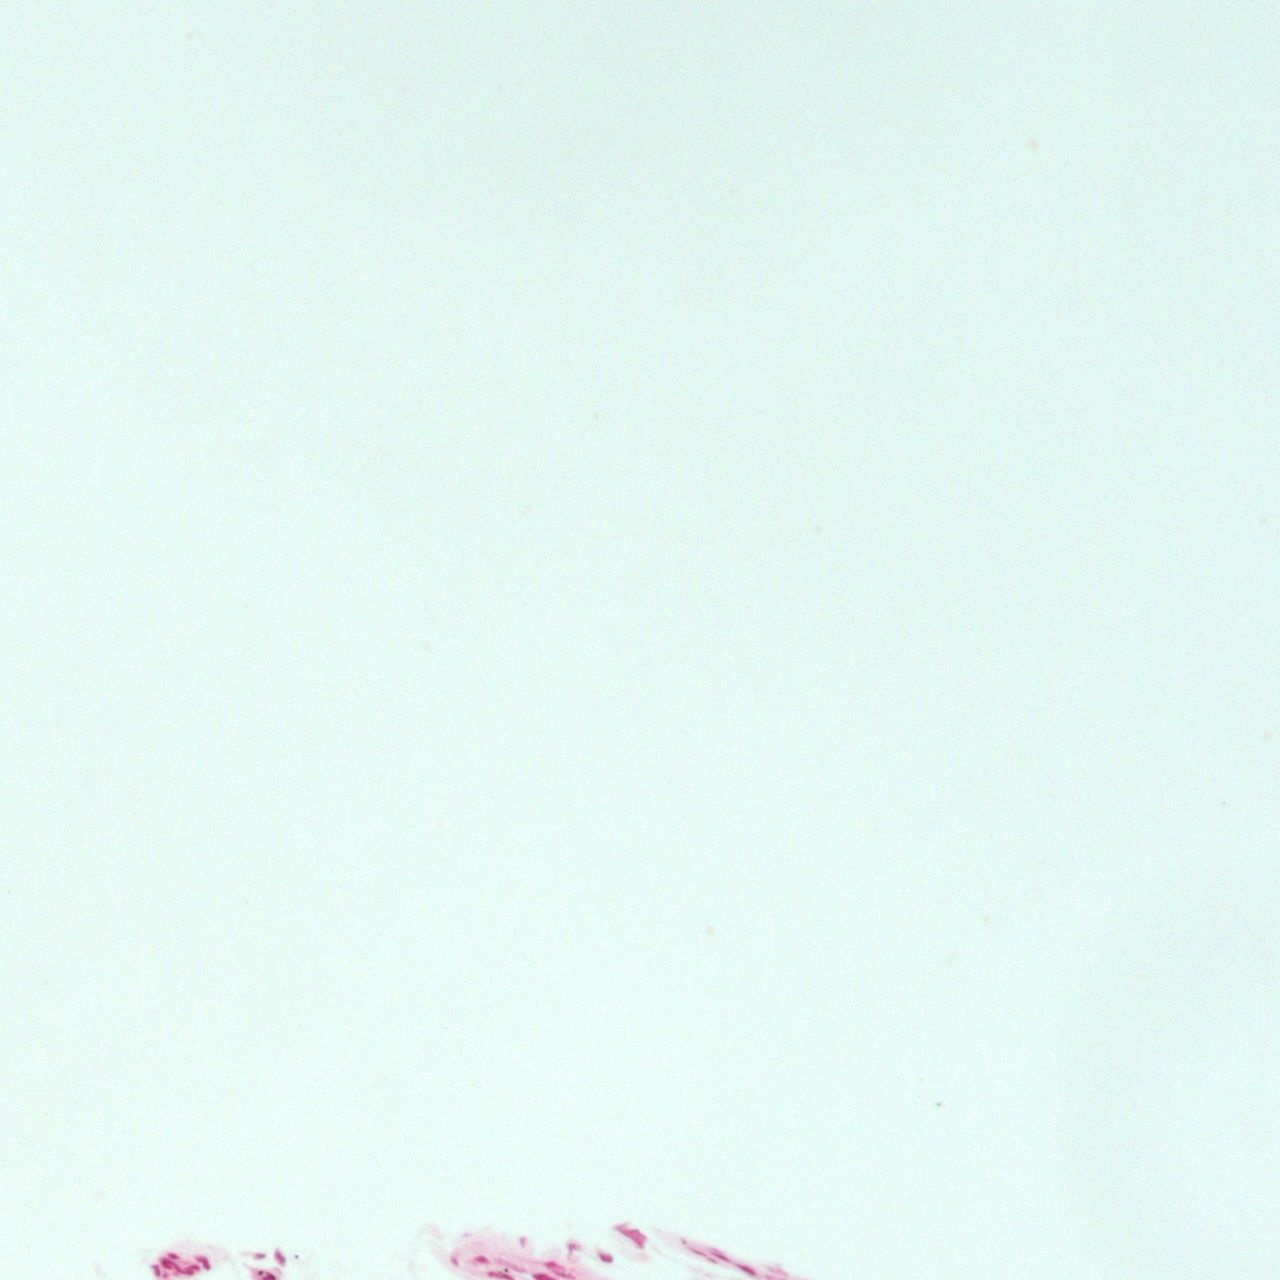dust: (258, 1269, 263, 1274), (294, 1254, 299, 1259), (503, 1268, 508, 1272)
nucleus-AC: (172, 1262, 196, 1276), (196, 1253, 213, 1272), (709, 1250, 733, 1264), (736, 1261, 757, 1276), (156, 1254, 175, 1271), (271, 1250, 287, 1267), (166, 1250, 181, 1261), (554, 1269, 572, 1279), (568, 1242, 579, 1254), (186, 1264, 200, 1271), (151, 1265, 159, 1276), (474, 1257, 488, 1262), (600, 1255, 612, 1262), (546, 1261, 557, 1268), (254, 1253, 265, 1259), (163, 1272, 169, 1279)
